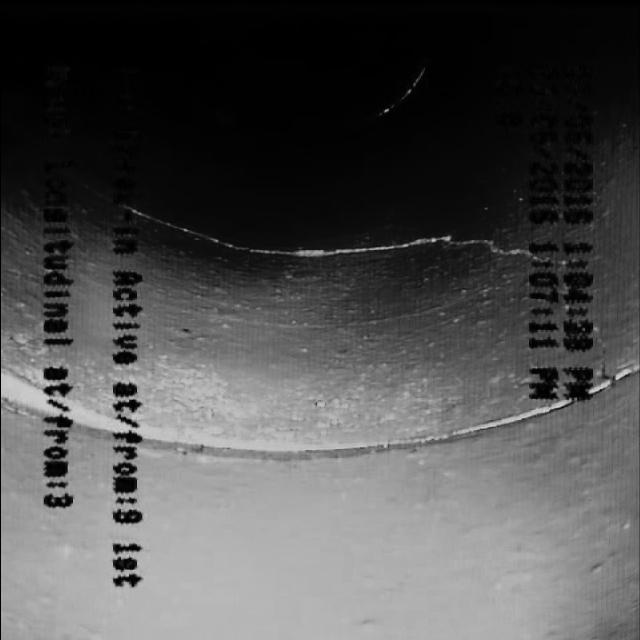Crack: (186, 208, 484, 278)
